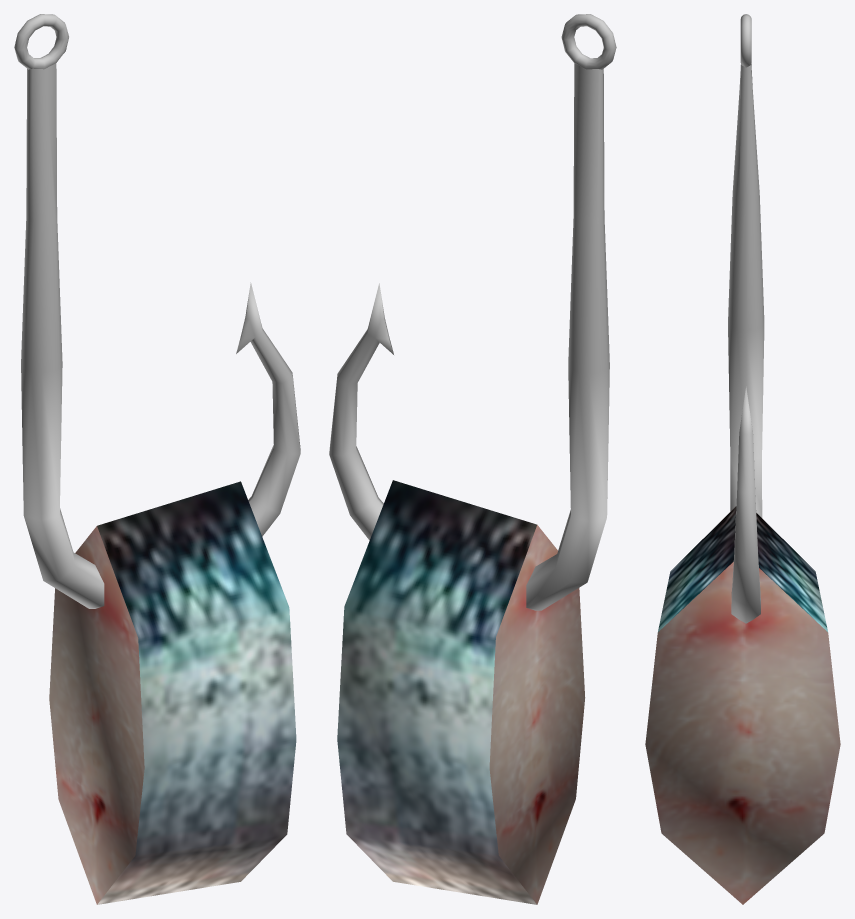
The model's file is Bait_PacificHerring.fbx.
3 views of the same model, side by side, from view 1: azimuth 30°, elevation 25°; view 2: azimuth 150°, elevation 25°; view 3: azimuth 270°, elevation 25° (orthographic). The views are drawn at different scales.
Parts seen in each view (by area): view 1: Bait_Sardinops; view 2: Bait_Sardinops; view 3: Bait_Sardinops.
Part boxes in pixels (<box>): Bait_Sardinops: <box>14,14,300,904</box>; Bait_Sardinops: <box>329,14,616,904</box>; Bait_Sardinops: <box>645,14,840,904</box>.
Bounding box in the file's own units: 0.2116 × 0.6477 × 0.1426.
